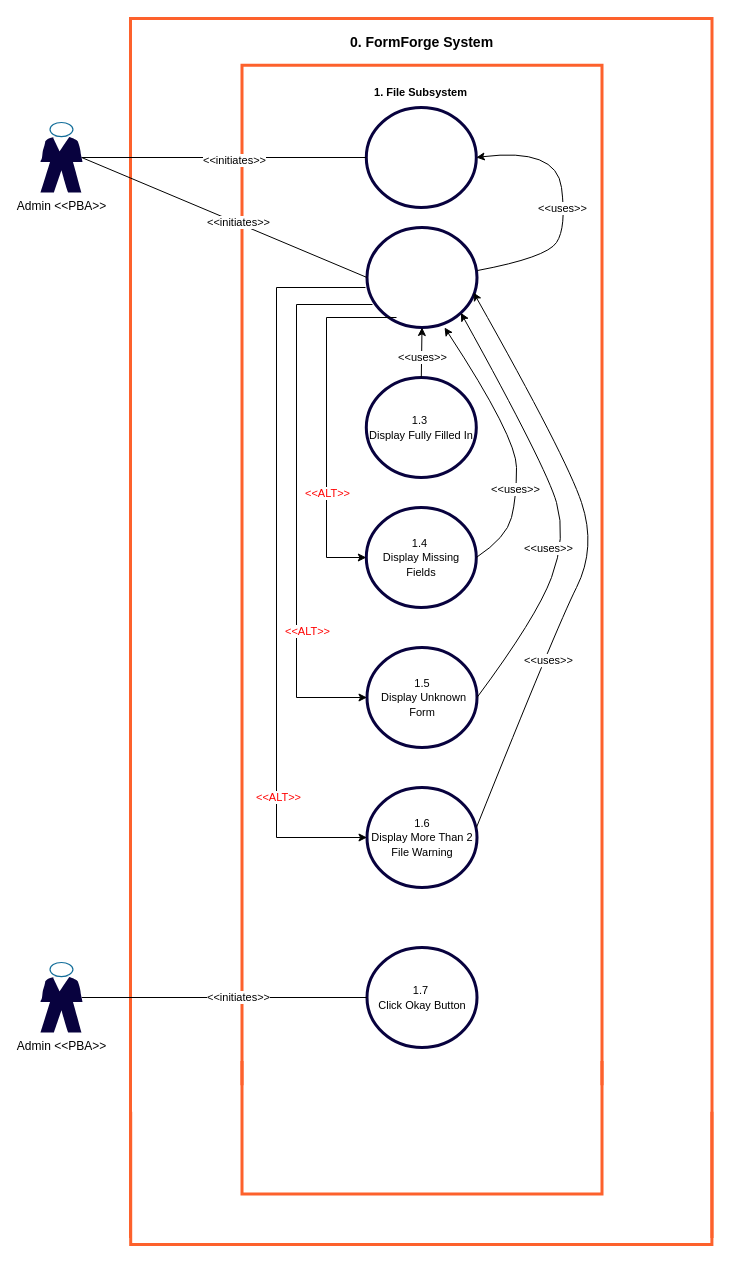
The diagram is 731 pixels wide and 1263 high, and some of its shapes have lost their labels. Each missing label, with the centre of its shape:
"1.1 Select File" goes at point (420, 157).
"1.2 Upload File" goes at point (421, 277).
